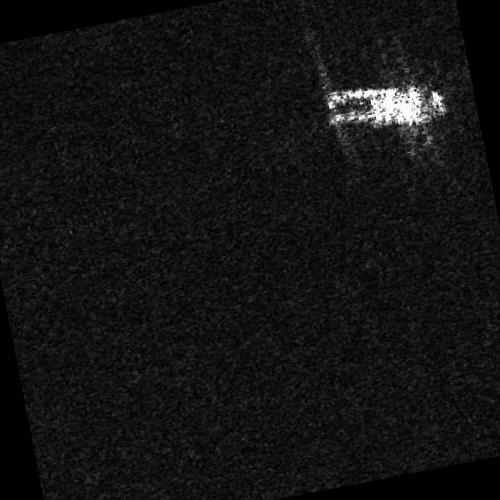ship: (326, 87, 450, 125)
